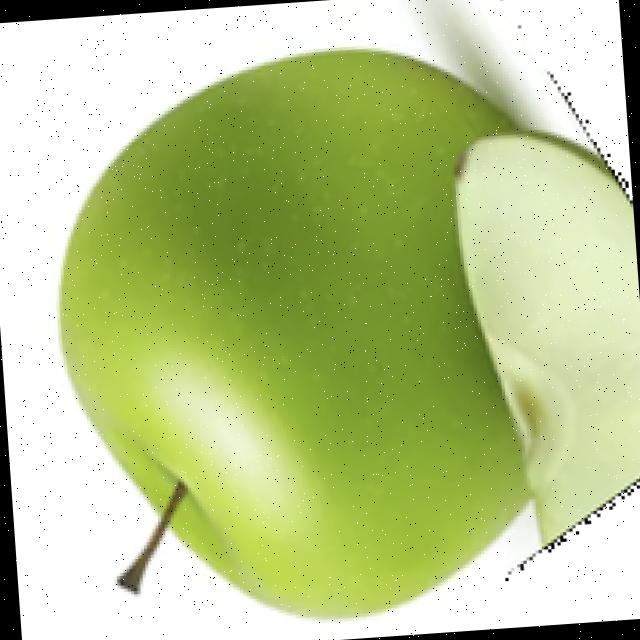apple: (52, 0, 640, 625)
